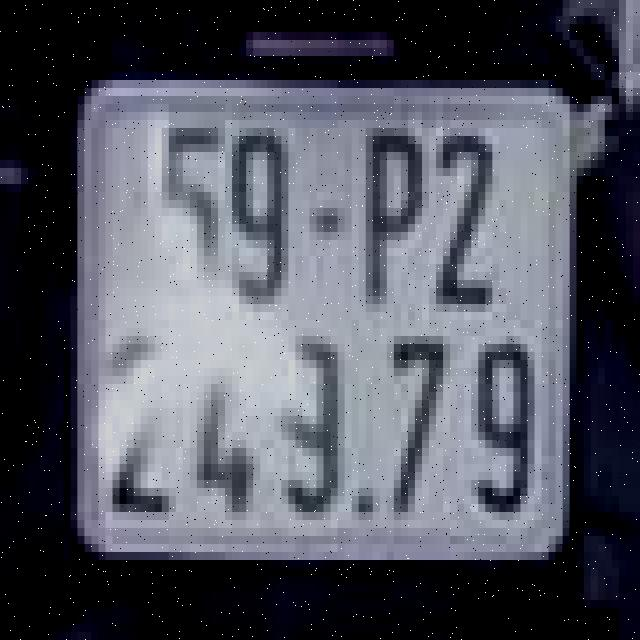2: (98, 328, 176, 528), (436, 124, 513, 308)
4: (183, 308, 267, 524)
5: (137, 108, 229, 300)
7: (380, 316, 457, 532)
9: (468, 320, 552, 536), (274, 316, 345, 540), (221, 120, 299, 312)
P: (359, 116, 429, 308)
